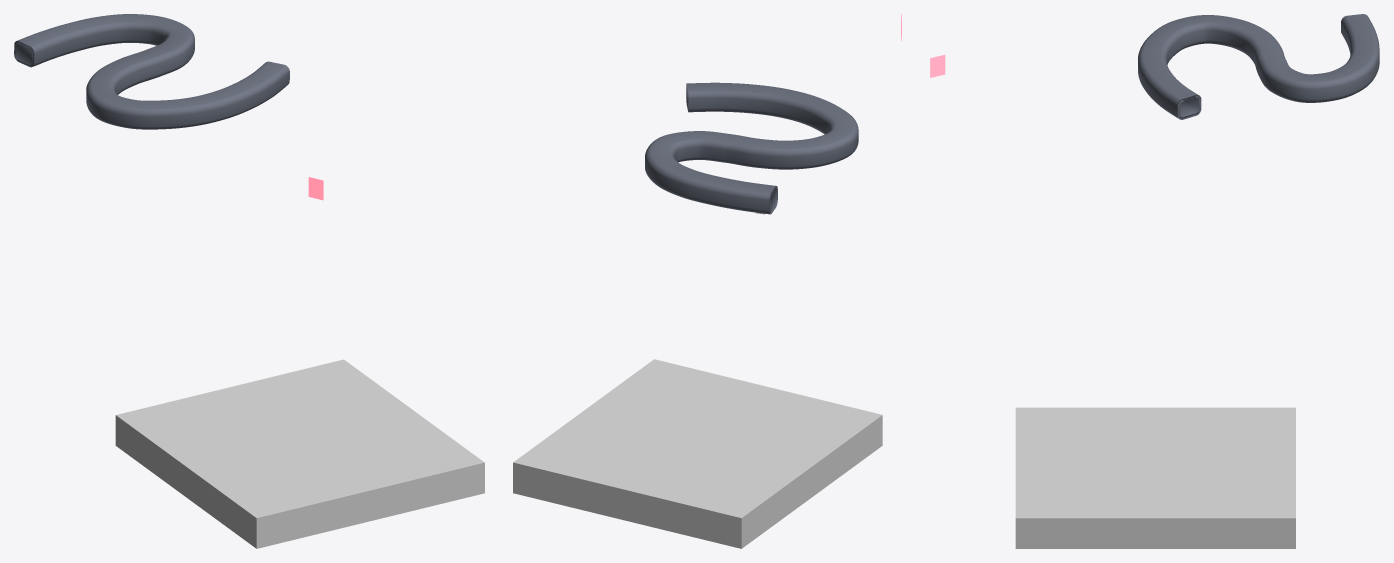
File: Serpentine.glb
3 renders of one model, left to right at view 1: azimuth 30°, elevation 25°; view 2: azimuth 150°, elevation 25°; view 3: azimuth 270°, elevation 25°, orthographic.
Visible parts, largest first — view 1: RJ_Kill, Corridor_01, Corridor_11, Corridor_12, Corridor_13, Corridor_03, Corridor_07, Corridor_02, Corridor_14, Corridor_04, Corridor_10, Corridor_08 (+4 smaller); view 2: RJ_Kill, Corridor_01, Corridor_09, Corridor_08, Corridor_02, Corridor_15, Corridor_07, Corridor_14, Corridor_03, Corridor_13, Corridor_10, Corridor_06 (+4 smaller); view 3: RJ_Kill, Corridor_05, Corridor_04, Corridor_06, Corridor_10, Corridor_09, Corridor_15, Corridor_11, Corridor_16, Corridor_14, Corridor_12, Corridor_08 (+3 smaller).
Part boxes in pixels (box(x1,y1,x2,y2)): RJ_Kill: box(115, 359, 484, 548); Corridor_01: box(14, 29, 61, 67); Corridor_11: box(109, 97, 154, 129); Corridor_12: box(154, 98, 197, 129); Corridor_13: box(189, 90, 234, 125); Corridor_03: box(81, 14, 123, 47); Corridor_07: box(129, 45, 174, 81); Corridor_02: box(47, 20, 92, 55); Corridor_14: box(219, 79, 263, 116); Corridor_04: box(120, 14, 163, 44); Corridor_10: box(86, 86, 122, 124); Corridor_08: box(100, 55, 144, 91); RJ_Kill: box(513, 359, 882, 548); Corridor_01: box(731, 181, 777, 214); Corridor_09: box(786, 137, 831, 169); Corridor_08: box(743, 138, 787, 169); Corridor_02: box(695, 174, 739, 208); Corridor_15: box(697, 82, 737, 112); Corridor_07: box(708, 132, 752, 165); Corridor_14: box(735, 83, 777, 115); Corridor_03: box(661, 164, 706, 201); Corridor_13: box(769, 87, 814, 122); Corridor_10: box(818, 126, 858, 163); Corridor_06: box(670, 131, 714, 161); RJ_Kill: box(1015, 407, 1295, 548); Corridor_05: box(1290, 72, 1341, 102); Corridor_04: box(1330, 61, 1371, 99); Corridor_06: box(1261, 63, 1302, 100); Corridor_10: box(1188, 15, 1233, 45); Corridor_09: box(1222, 18, 1265, 53); Corridor_15: box(1151, 77, 1192, 114); Corridor_11: box(1156, 17, 1198, 52); Corridor_16: box(1171, 91, 1201, 119); Corridor_14: box(1139, 63, 1175, 98); Corridor_12: box(1140, 30, 1178, 63); Corridor_08: box(1244, 30, 1282, 64).
Bounding box in the file's own units: 1404 × 1803 × 1867.
